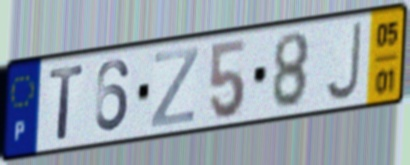5: (208, 36, 248, 122)
6: (94, 58, 132, 136)
8: (269, 30, 313, 111)
J: (322, 19, 364, 105)
T: (47, 62, 86, 143)
Z: (148, 44, 201, 131)
